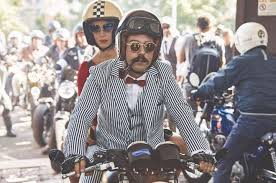helmet: (114, 9, 168, 68), (82, 1, 128, 50)
